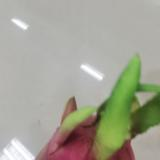pitaya: (34, 96, 160, 160)
